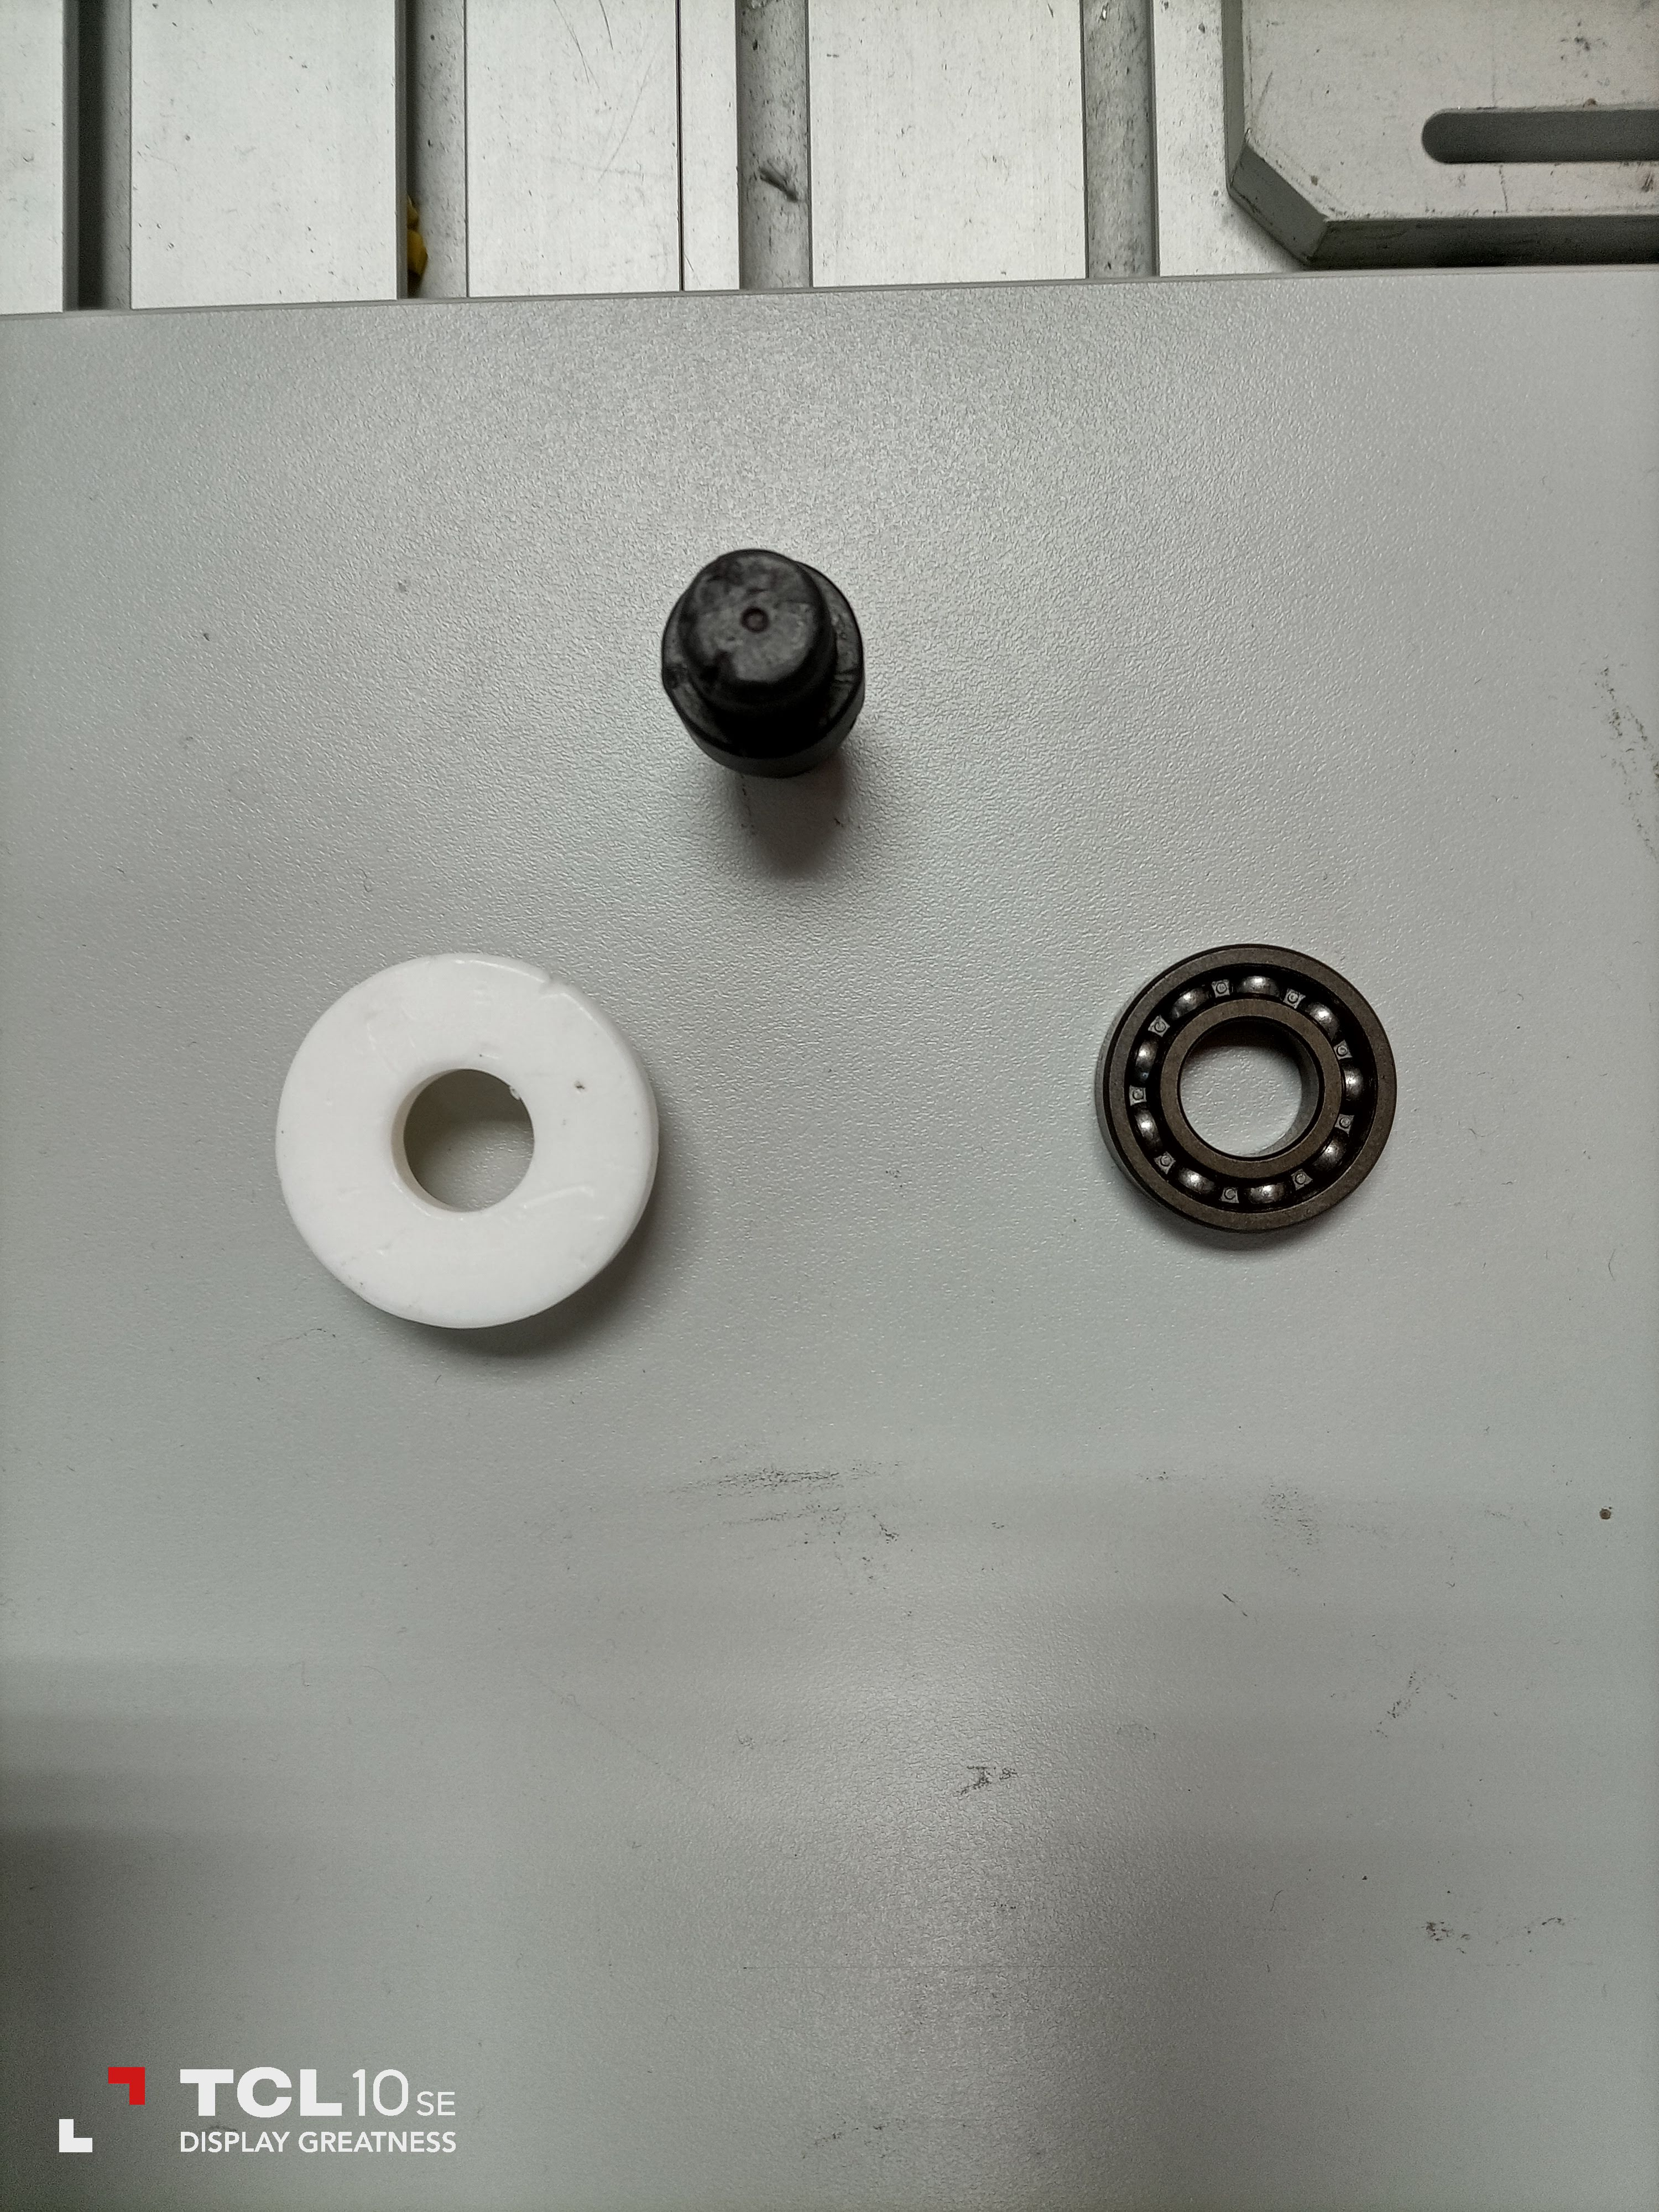Ardatza: (655, 538, 906, 789)
Roda: (1101, 928, 1412, 1238)
Tapa: (272, 958, 681, 1345)
